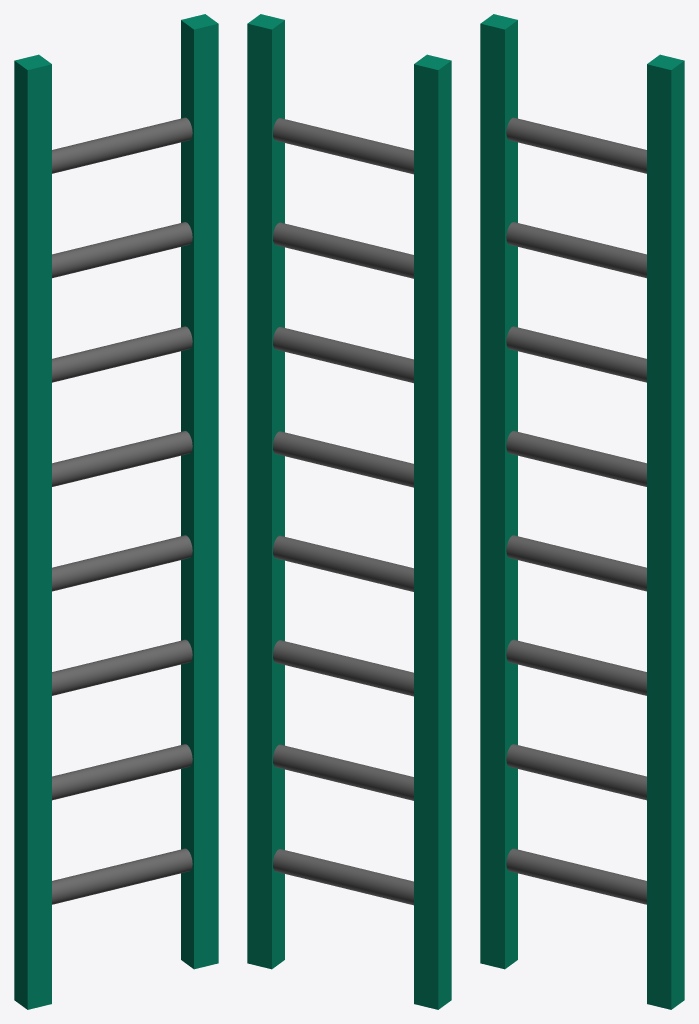
The model's file is ladder.fbx.
The picture shows the model from 3 angles, left to right: view 1: azimuth 30°, elevation 25°; view 2: azimuth 150°, elevation 25°; view 3: azimuth 330°, elevation 25°; orthographic projection.
Visible parts, largest first — view 1: Cylinder; view 2: Cylinder; view 3: Cylinder.
Part boxes in pixels (left/top/right/bottom): Cylinder: left=14, top=14, right=218, bottom=1009; Cylinder: left=247, top=14, right=451, bottom=1009; Cylinder: left=480, top=14, right=684, bottom=1009.
Size of the model in its own units: 287 by 1350 by 34.28.
